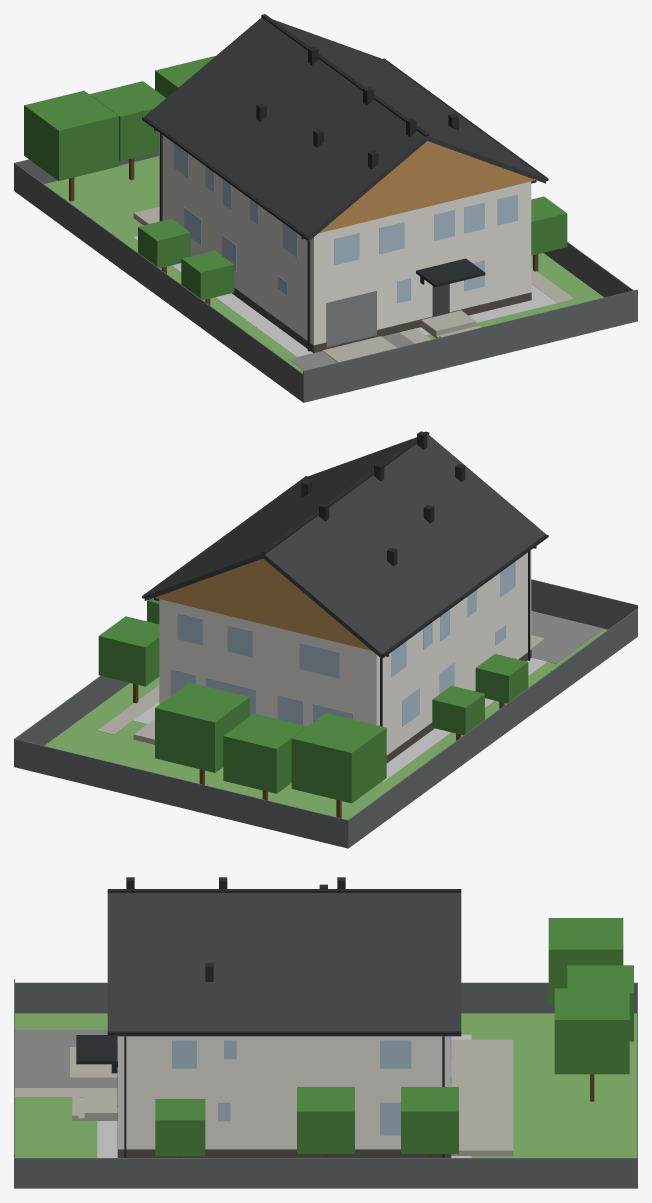
The model's file is house.obj.
The picture shows the model from 3 angles, top to bottom: view 1: azimuth 30°, elevation 25°; view 2: azimuth 150°, elevation 25°; view 3: azimuth 270°, elevation 25°; orthographic projection. The views are drawn at different scales.
Parts seen in each view (by area): view 1: roof, wall, fence, crown, grass, wood, glass, roof_dark, paving, concrete, garage, plinth (+1 smaller); view 2: roof, wall, crown, fence, grass, wood, glass, roof_dark, asphalt, concrete, paving; view 3: roof, wall, fence, crown, grass, paving, roof_dark, asphalt, glass, plinth, concrete.
Part boxes in pixels (bbox=[...]): roof: bbox=[144, 17, 545, 241]; wall: bbox=[159, 132, 531, 345]; fence: bbox=[14, 152, 637, 402]; crown: bbox=[24, 56, 567, 299]; grass: bbox=[44, 156, 603, 373]; wood: bbox=[319, 141, 533, 233]; glass: bbox=[173, 143, 517, 303]; roof_dark: bbox=[142, 14, 548, 351]; paving: bbox=[133, 207, 573, 367]; concrete: bbox=[133, 236, 557, 356]; garage: bbox=[326, 291, 376, 347]; plinth: bbox=[190, 255, 531, 352]; roof: bbox=[144, 435, 545, 658]; wall: bbox=[159, 550, 531, 755]; crown: bbox=[98, 597, 528, 803]; fence: bbox=[14, 579, 637, 848]; grass: bbox=[44, 629, 607, 819]; wood: bbox=[156, 558, 371, 650]; glass: bbox=[170, 562, 515, 726]; roof_dark: bbox=[142, 431, 548, 726]; asphalt: bbox=[531, 611, 603, 663]; concrete: bbox=[133, 657, 547, 781]; paving: bbox=[97, 635, 544, 744]; roof: bbox=[107, 893, 461, 1036]; wall: bbox=[118, 1036, 450, 1149]; fence: bbox=[14, 979, 637, 1188]; crown: bbox=[155, 918, 633, 1156]; grass: bbox=[15, 1013, 636, 1157]; paving: bbox=[15, 1039, 513, 1156]; roof_dark: bbox=[76, 877, 461, 1157]; asphalt: bbox=[15, 1030, 117, 1087]; glass: bbox=[117, 1036, 451, 1135]; plinth: bbox=[117, 1106, 451, 1157]; concrete: bbox=[97, 1034, 471, 1157].
Bounding box in the file's own units: 20 × 11.92 × 30.
